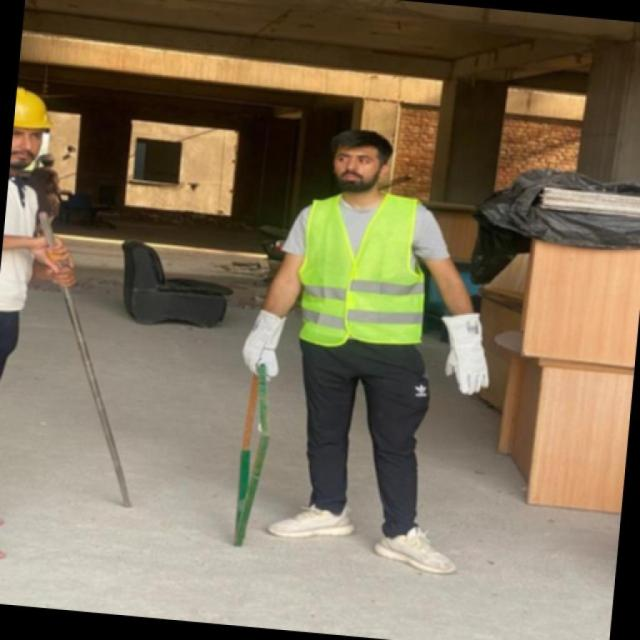Gloves-Detection: (430, 308, 493, 395), (236, 305, 286, 379)
